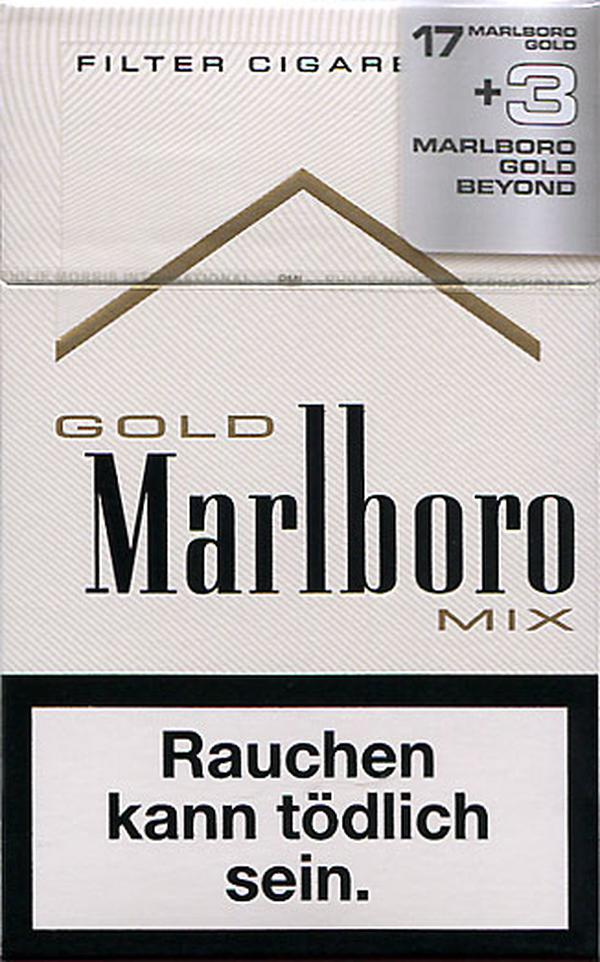marlboro_gold: (6, 9, 600, 960)
